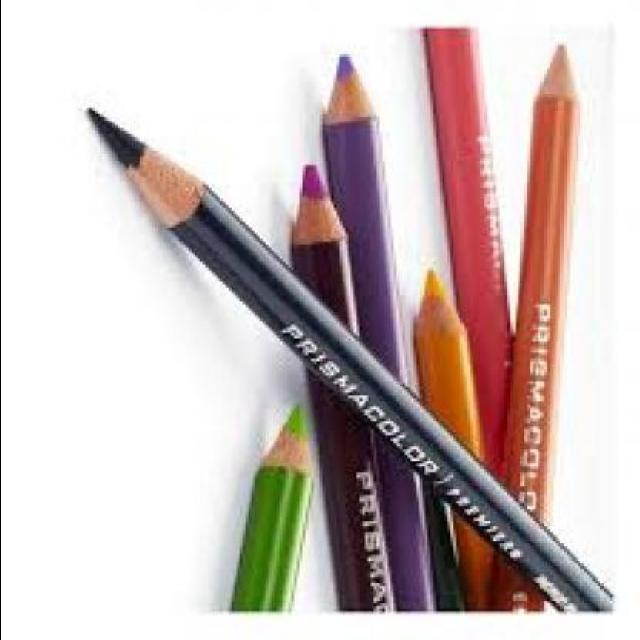Pencil: (57, 94, 225, 255), (234, 390, 332, 514), (278, 156, 352, 287), (307, 40, 398, 146), (401, 258, 481, 376), (514, 32, 592, 134)
